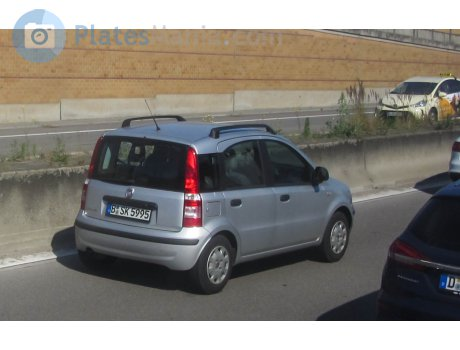License Plates: (105, 199, 159, 222)
